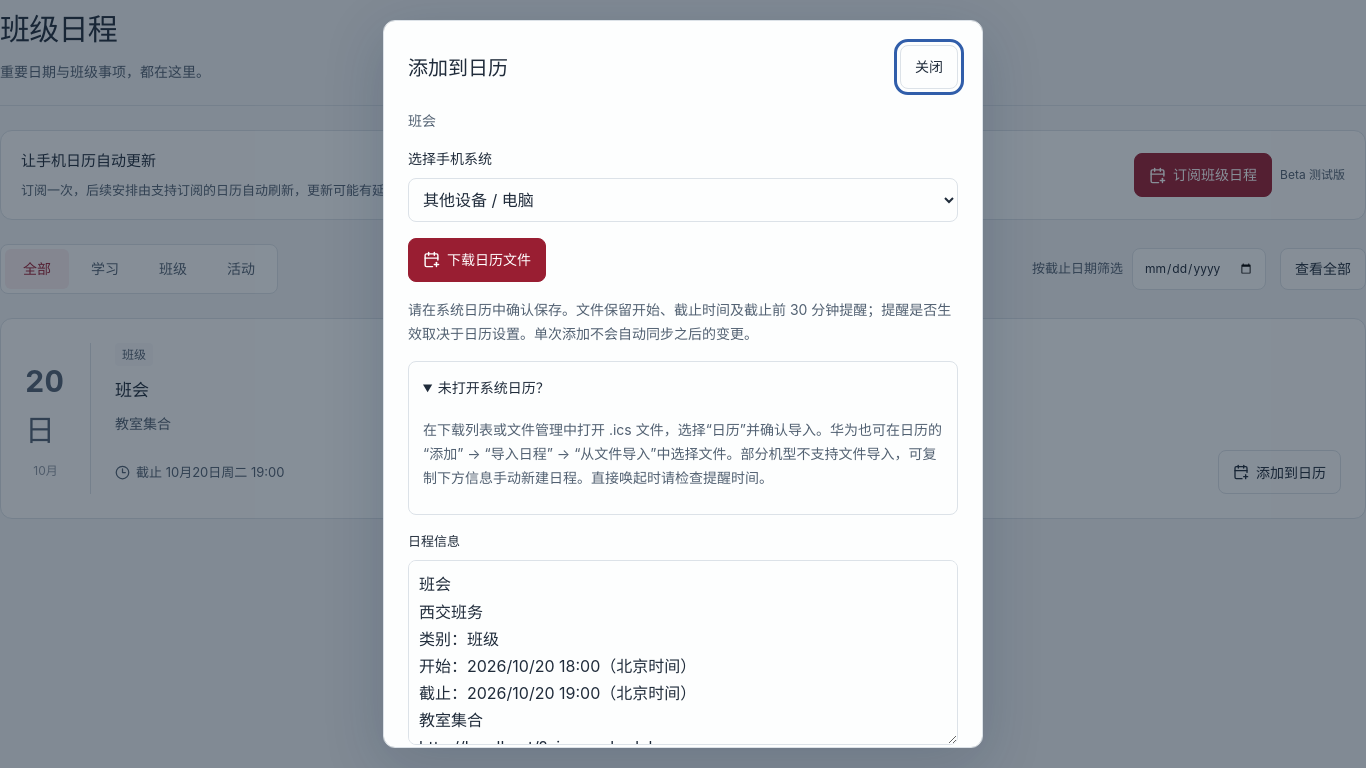
Test: offers an unfiltered class subscription and reopens the selected event after Android fallback
This screenshot has width=1366, height=768.
Expected: the dialog is shown, x1=383 y1=20 x2=983 y2=748
Click the button with aria-label "关闭窗口": (929, 67) x1=900 y1=45 x2=958 y2=89
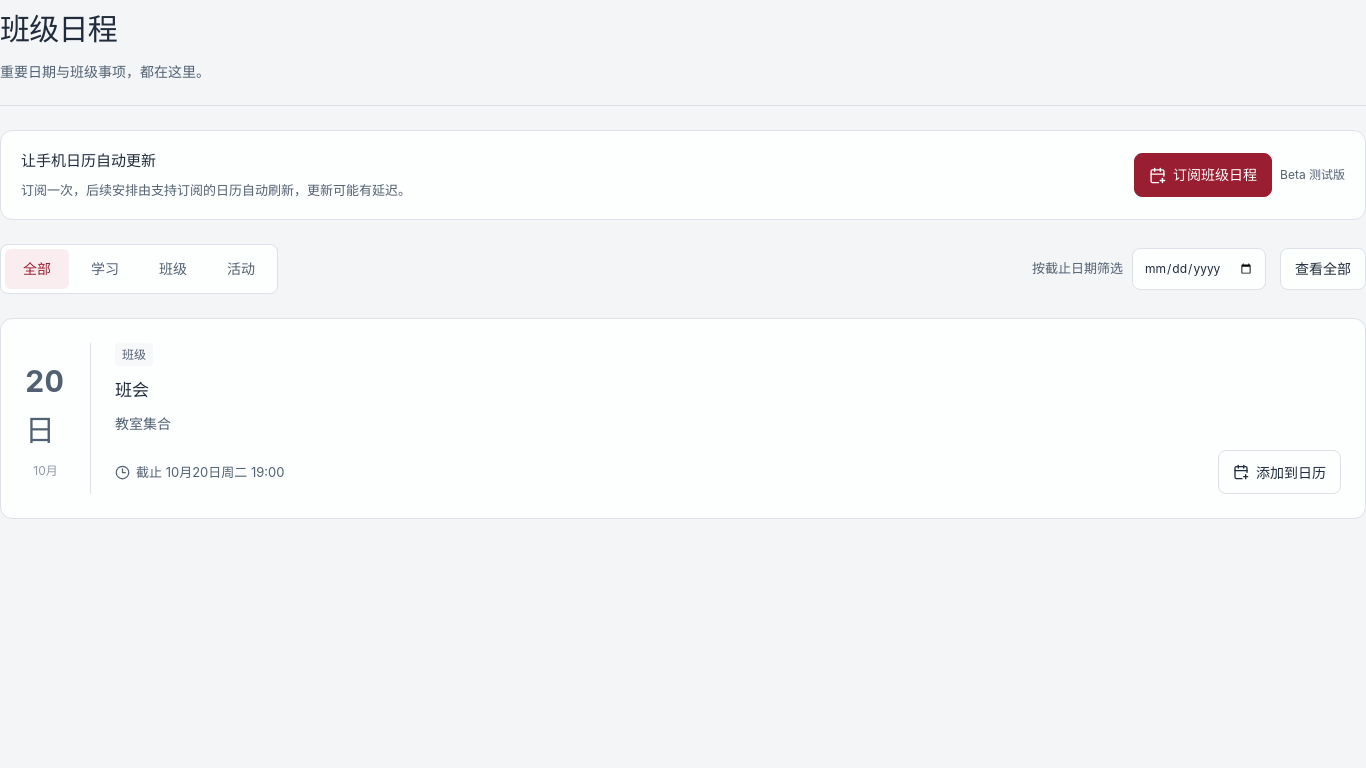
Click the button "订阅班级日程": (1203, 175) x1=1134 y1=153 x2=1272 y2=197
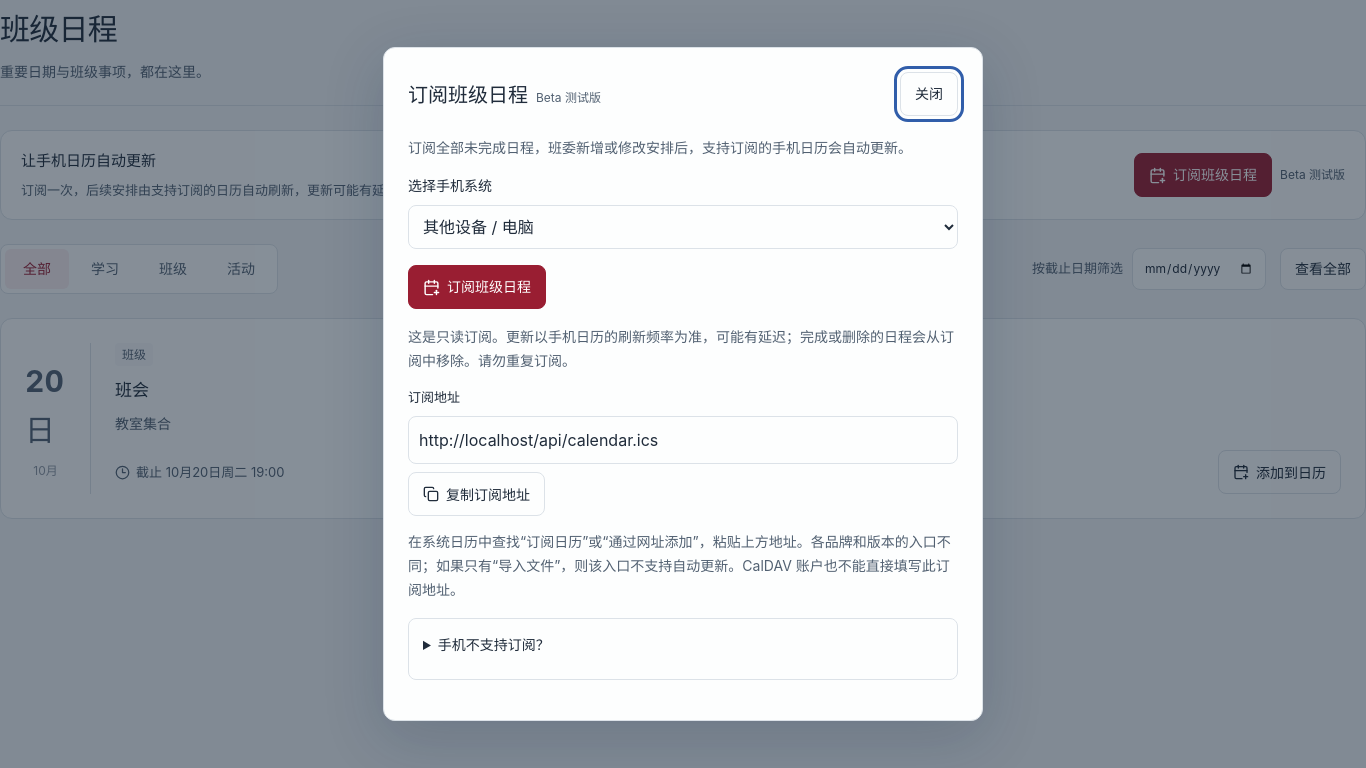
Expected: the text "订阅全部未完成日程，班委新增或修改安排后，支持订阅的手机日历会自动更新。" is shown, x1=408 y1=136 x2=958 y2=160
